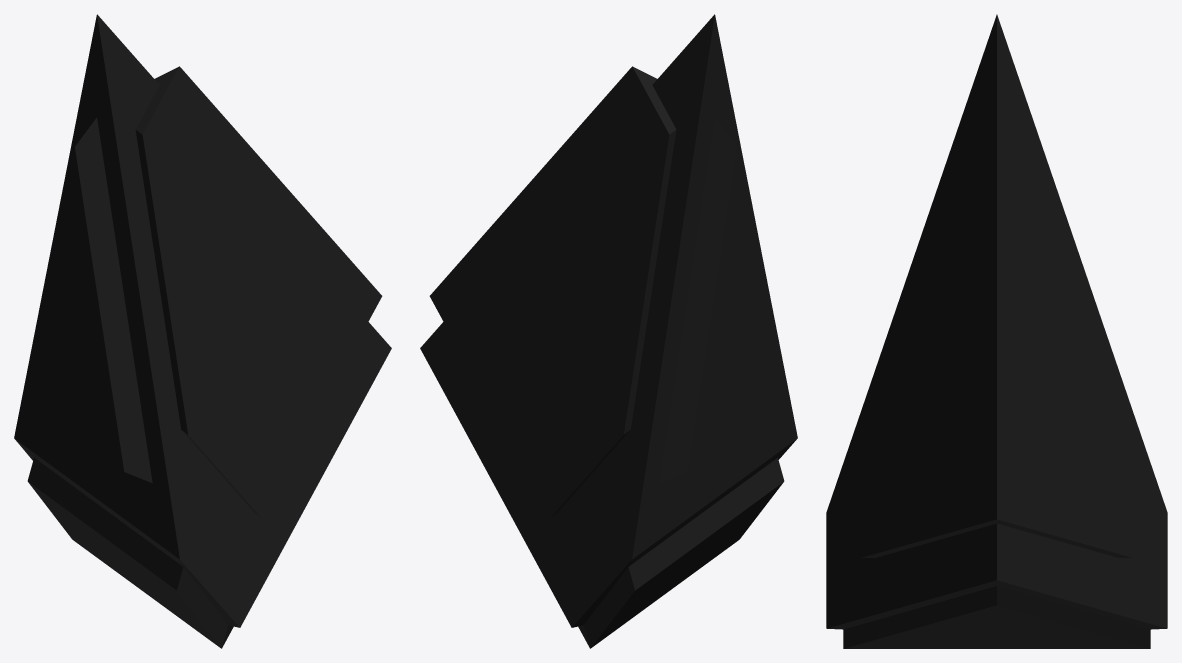
Rendered from TriangleThing.fbx.
3 renders of one model, left to right at view 1: azimuth 30°, elevation 25°; view 2: azimuth 150°, elevation 25°; view 3: azimuth 270°, elevation 25°, orthographic. The views are drawn at different scales.
Parts seen in each view (by area): view 1: Solid.000; view 2: Solid.000; view 3: Solid.000.
Boxes of the visible parts, bbox=[...] form: Solid.000: bbox=[14, 14, 391, 648]; Solid.000: bbox=[420, 14, 797, 648]; Solid.000: bbox=[826, 14, 1167, 648].
Size of the model in its own units: 143 by 256 by 130.
